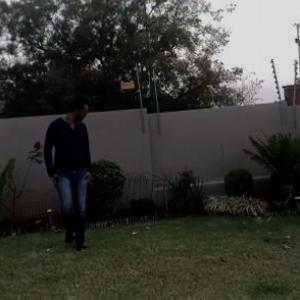follow: (41, 83, 96, 262)
